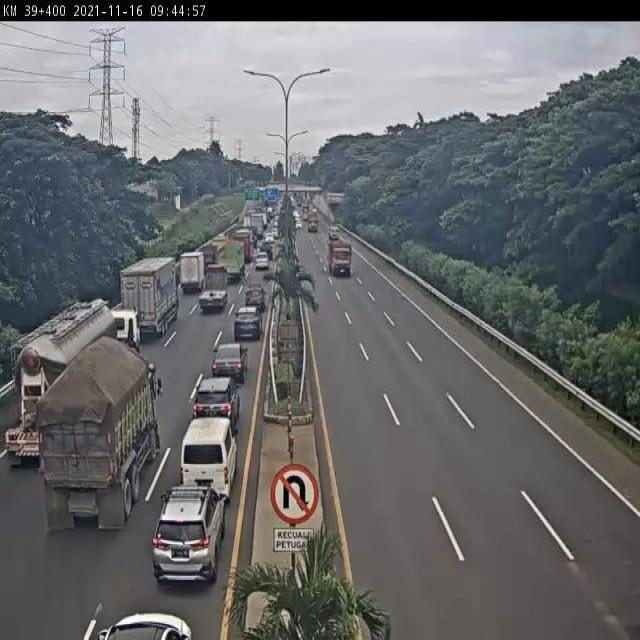car: (151, 488, 224, 581), (179, 420, 237, 497), (194, 375, 240, 433), (210, 345, 247, 383), (233, 308, 260, 341), (246, 283, 264, 308)
small truck: (180, 248, 205, 289)
truck-l-: (46, 341, 161, 527), (121, 253, 180, 335), (216, 237, 246, 280)
truck-m-: (198, 267, 227, 313), (328, 243, 352, 280)
truck-xl-: (5, 301, 140, 455)
